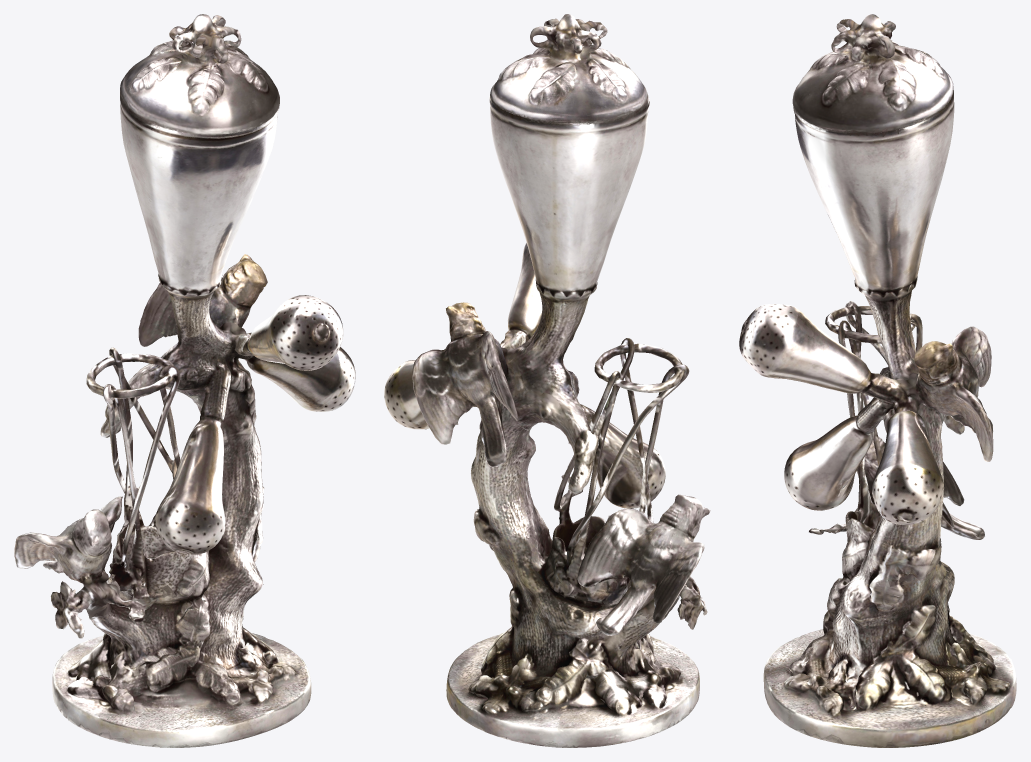
The model's file is 银蒸馏器.glb.
3 views of the same model, side by side, from view 1: azimuth 30°, elevation 25°; view 2: azimuth 150°, elevation 25°; view 3: azimuth 270°, elevation 25° (orthographic). The views are drawn at different scales.
Visible parts, largest first — view 1: foto3D_3D_270VII_Puszka_na_wonnosci_07 - Default_0; view 2: foto3D_3D_270VII_Puszka_na_wonnosci_07 - Default_0; view 3: foto3D_3D_270VII_Puszka_na_wonnosci_07 - Default_0.
Part boxes in pixels (left/top/right/bottom): foto3D_3D_270VII_Puszka_na_wonnosci_07 - Default_0: left=14, top=14, right=355, bottom=747; foto3D_3D_270VII_Puszka_na_wonnosci_07 - Default_0: left=384, top=14, right=710, bottom=747; foto3D_3D_270VII_Puszka_na_wonnosci_07 - Default_0: left=739, top=14, right=1016, bottom=747.
Bounding box in the file's own units: 129 × 262 × 96.
Materials: 1 (1 with a texture image).
